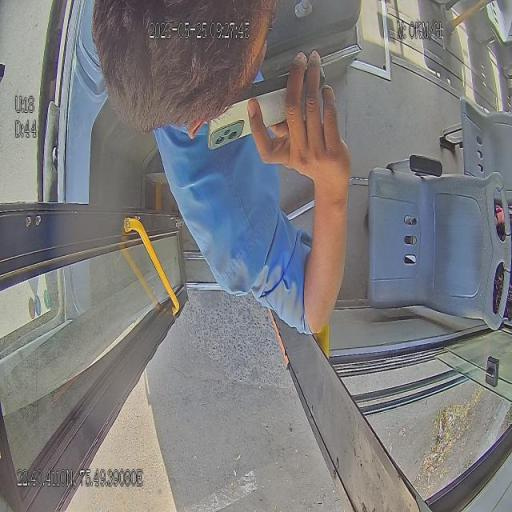persona: (90, 0, 352, 338)
